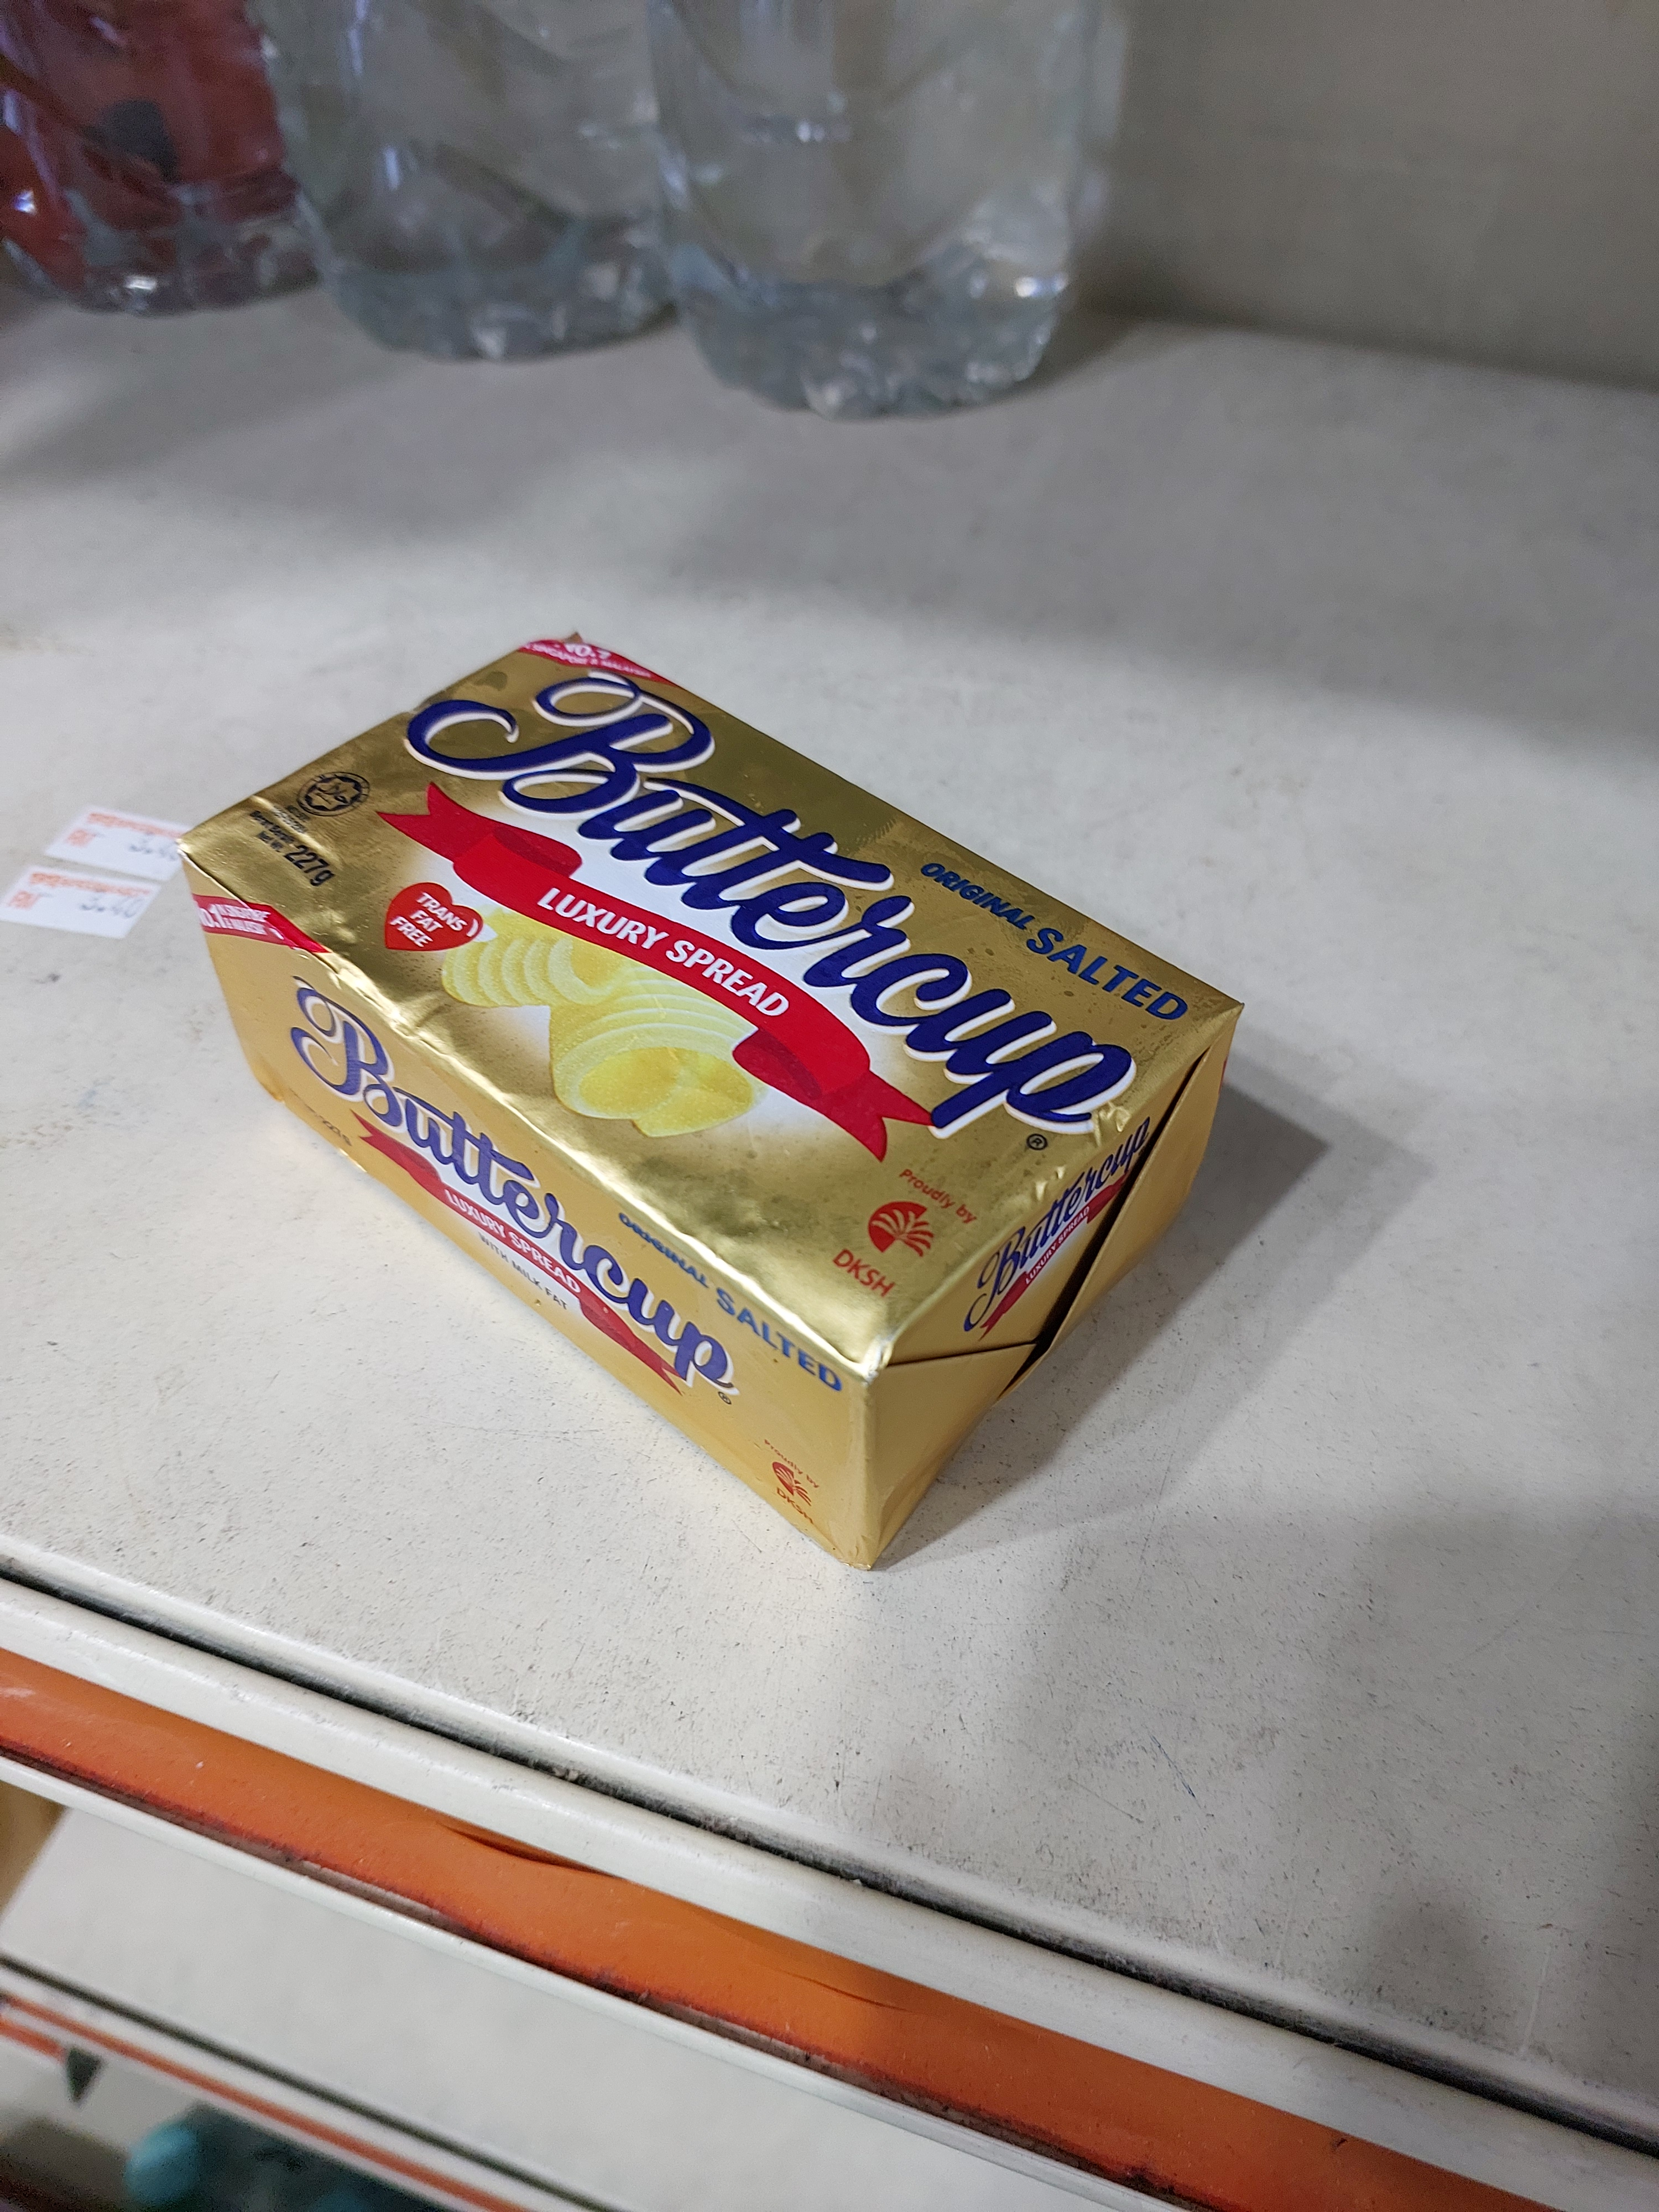bread: (178, 631, 1243, 1569)
